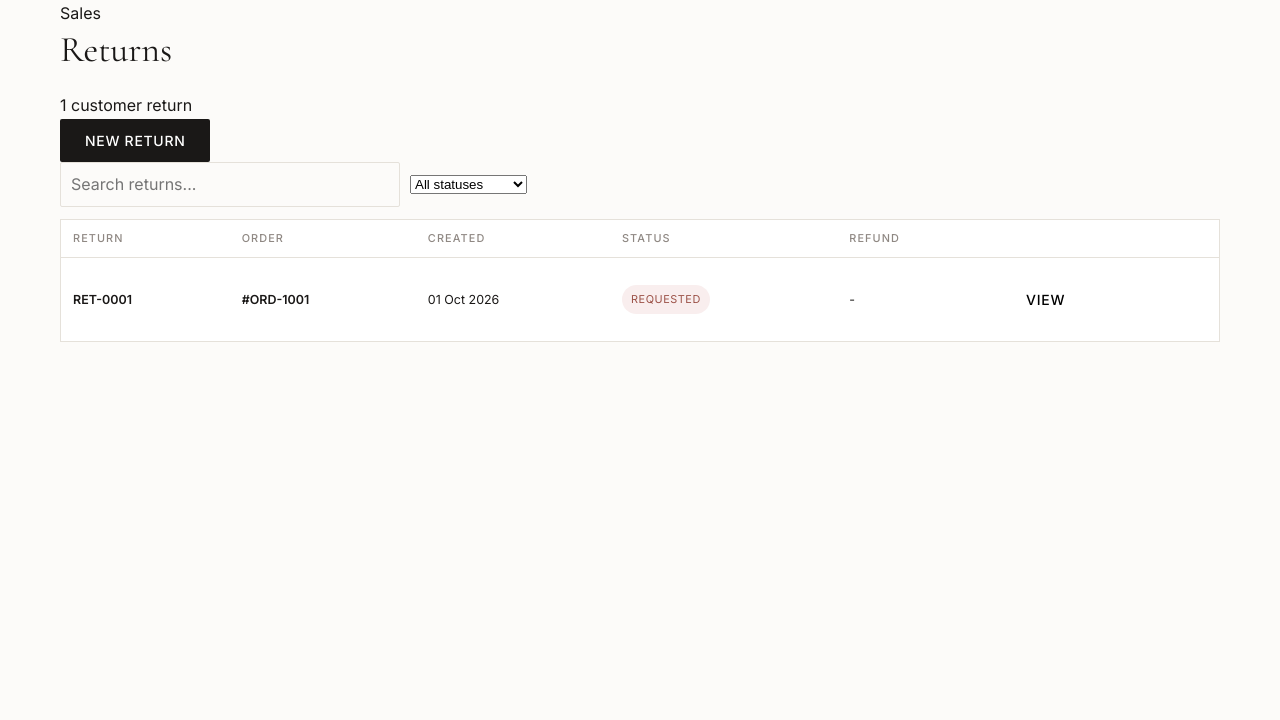
Test: Returns admin page › refreshes the modal header status badge after a status mutation
expect the text "RET-0001" is shown: met, box [73,292,132,307]
Click the button "View" at (1046, 300), box [1001,278,1090,321]
(page scrolled)
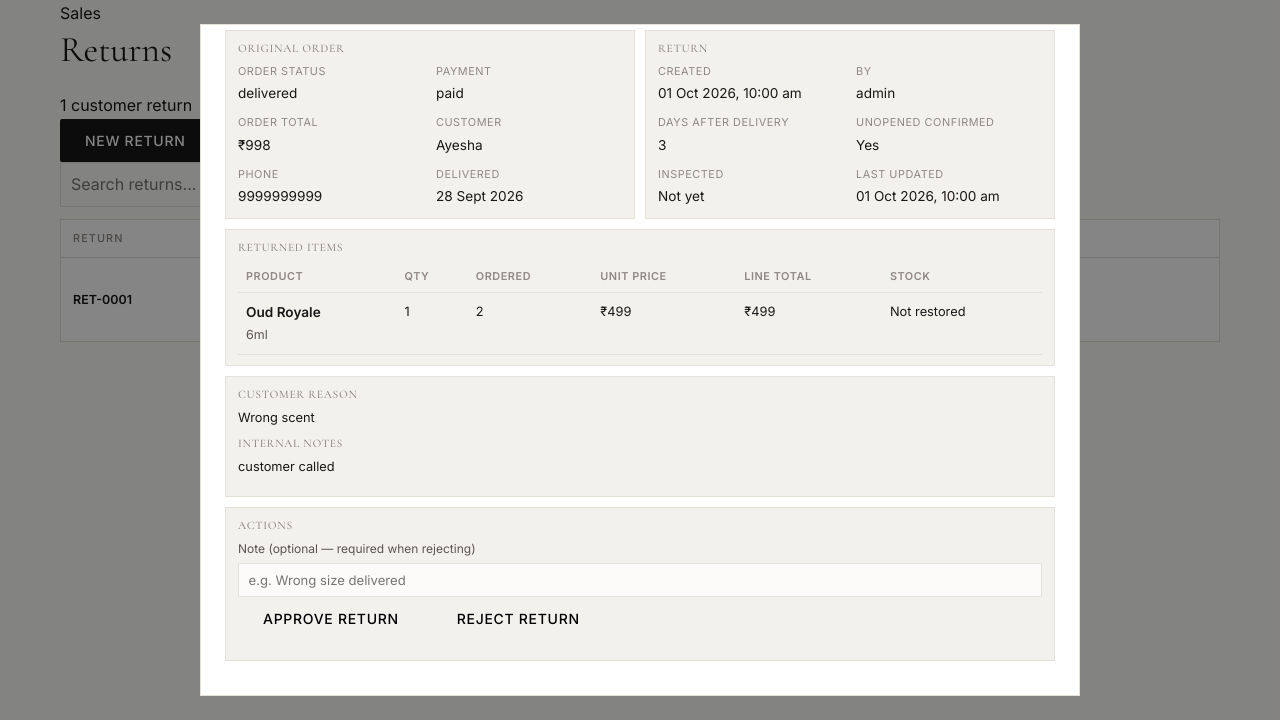
expect the dialog is shown: met
Type "policy allows" into the field with placeholder "e.g. Wrong size delivered" at (640, 580), box [238,563,1042,597]
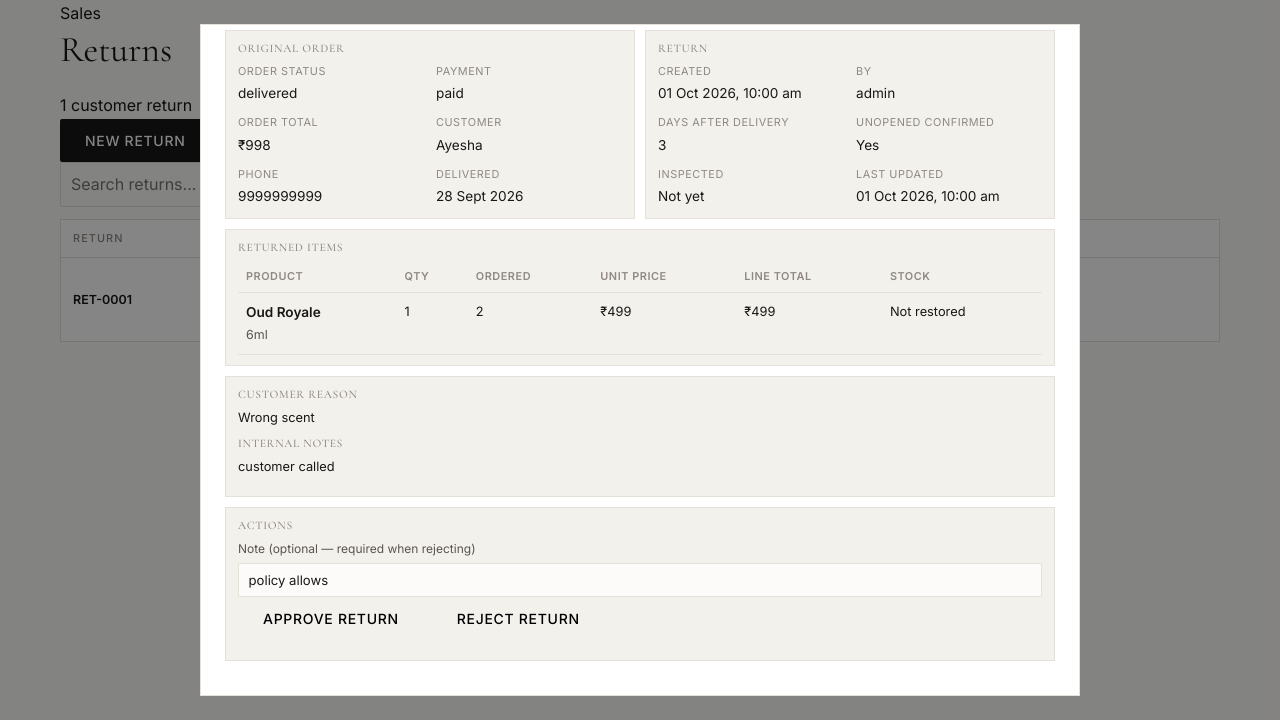
Click the button "Approve return" at (331, 618), box [238,597,424,640]
(page scrolled)
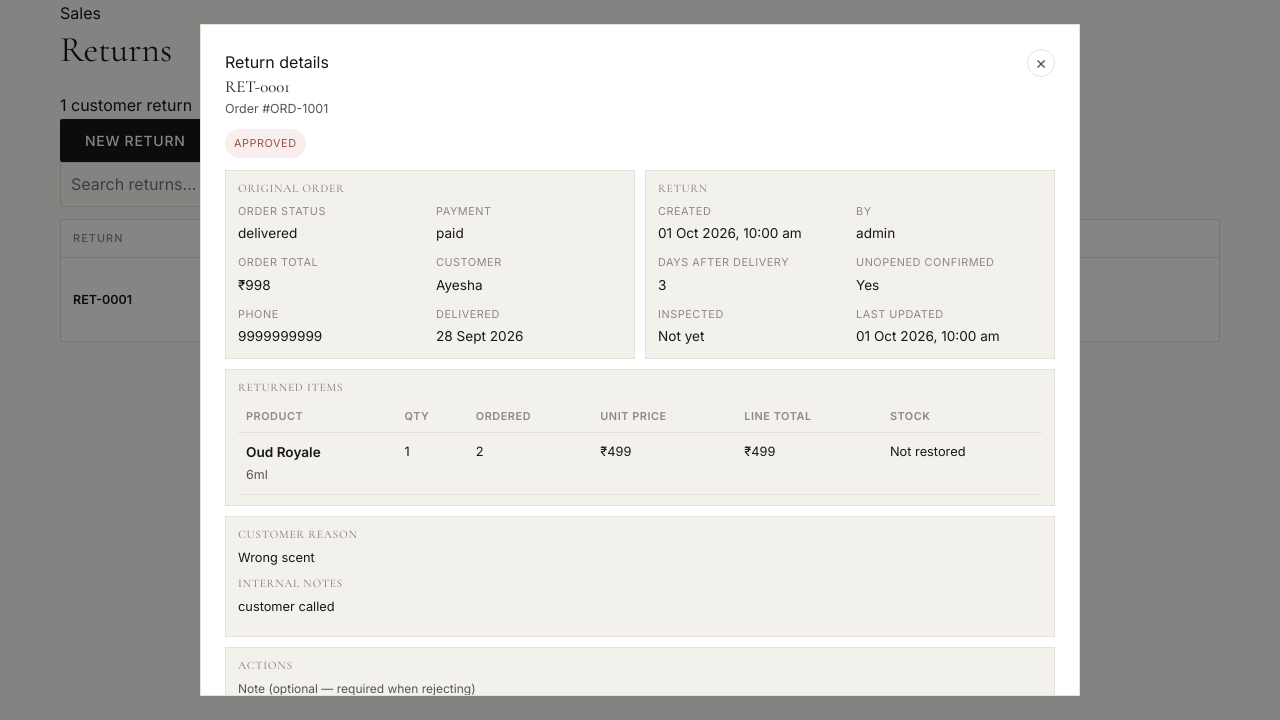
expect the text "Approved" is shown: met, box [225,129,306,158]
expect the text "Requested" is gone: met
